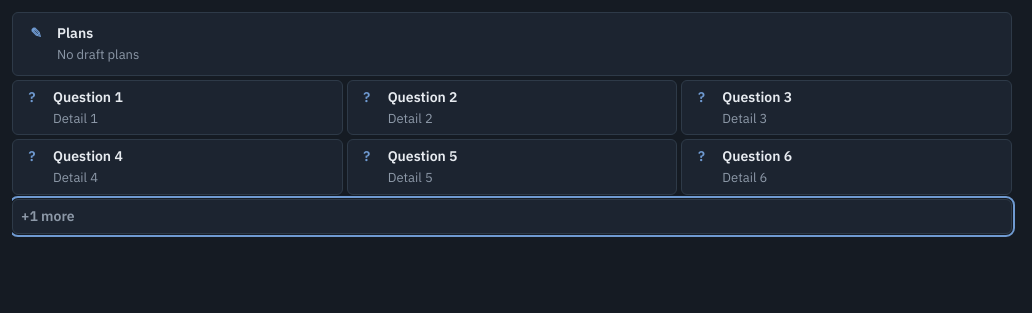
Test case: NeedsStrip › the cap and its +N more control › toggles with Enter on the focused native button and keeps focus on it
Press Enter in the button "+1 more", box 12,198 -> 1012,234
Click the button "+1 more": point(48, 216) 12,198 -> 1012,234
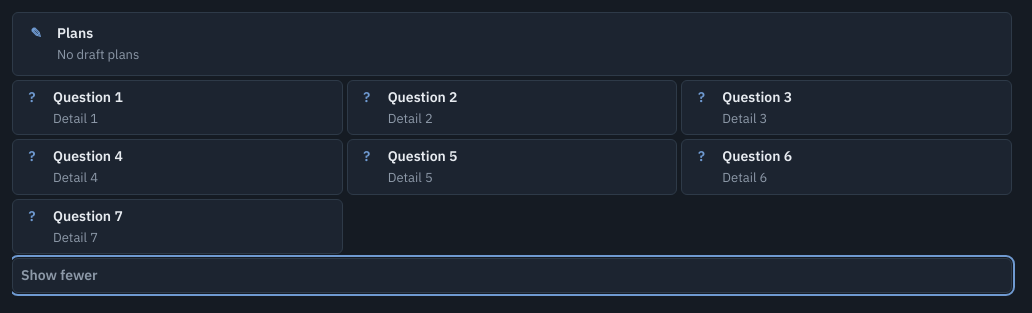
Check: the button named "+1 more" reads "Show fewer"
Press Enter in the button named "+1 more", box 12,258 -> 1012,293
Click the button named "+1 more": point(59, 275) 12,258 -> 1012,293
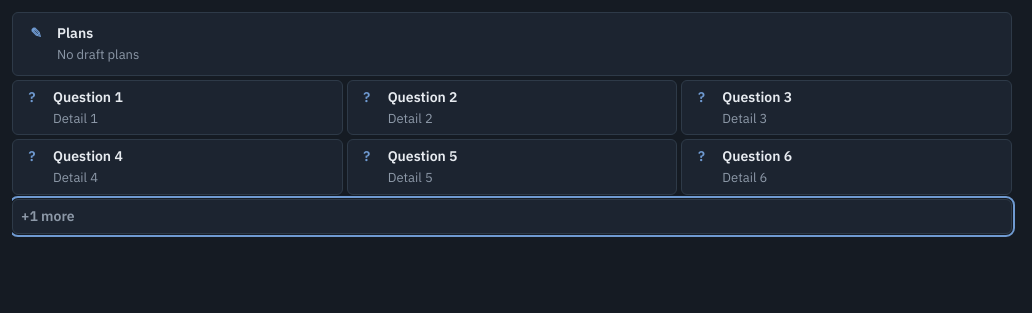
Check: the button "+1 more" is shown, box 12,198 -> 1012,234
